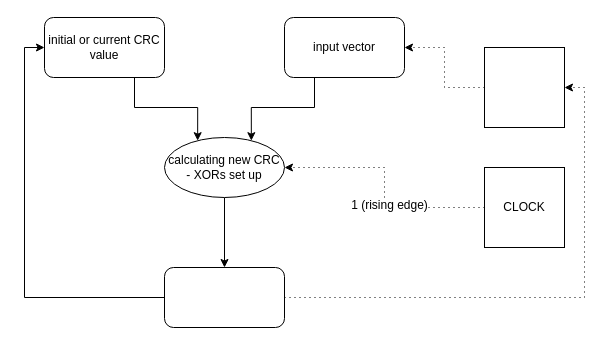
This 610x345 diagram has some shape labels left out. The shapes that lost their labels are listed below. From the top down, each one's box as (x1, y1, x2, y2) in pixels, then its label:
(484, 46, 564, 128): Device
(164, 266, 284, 328): new CRC
